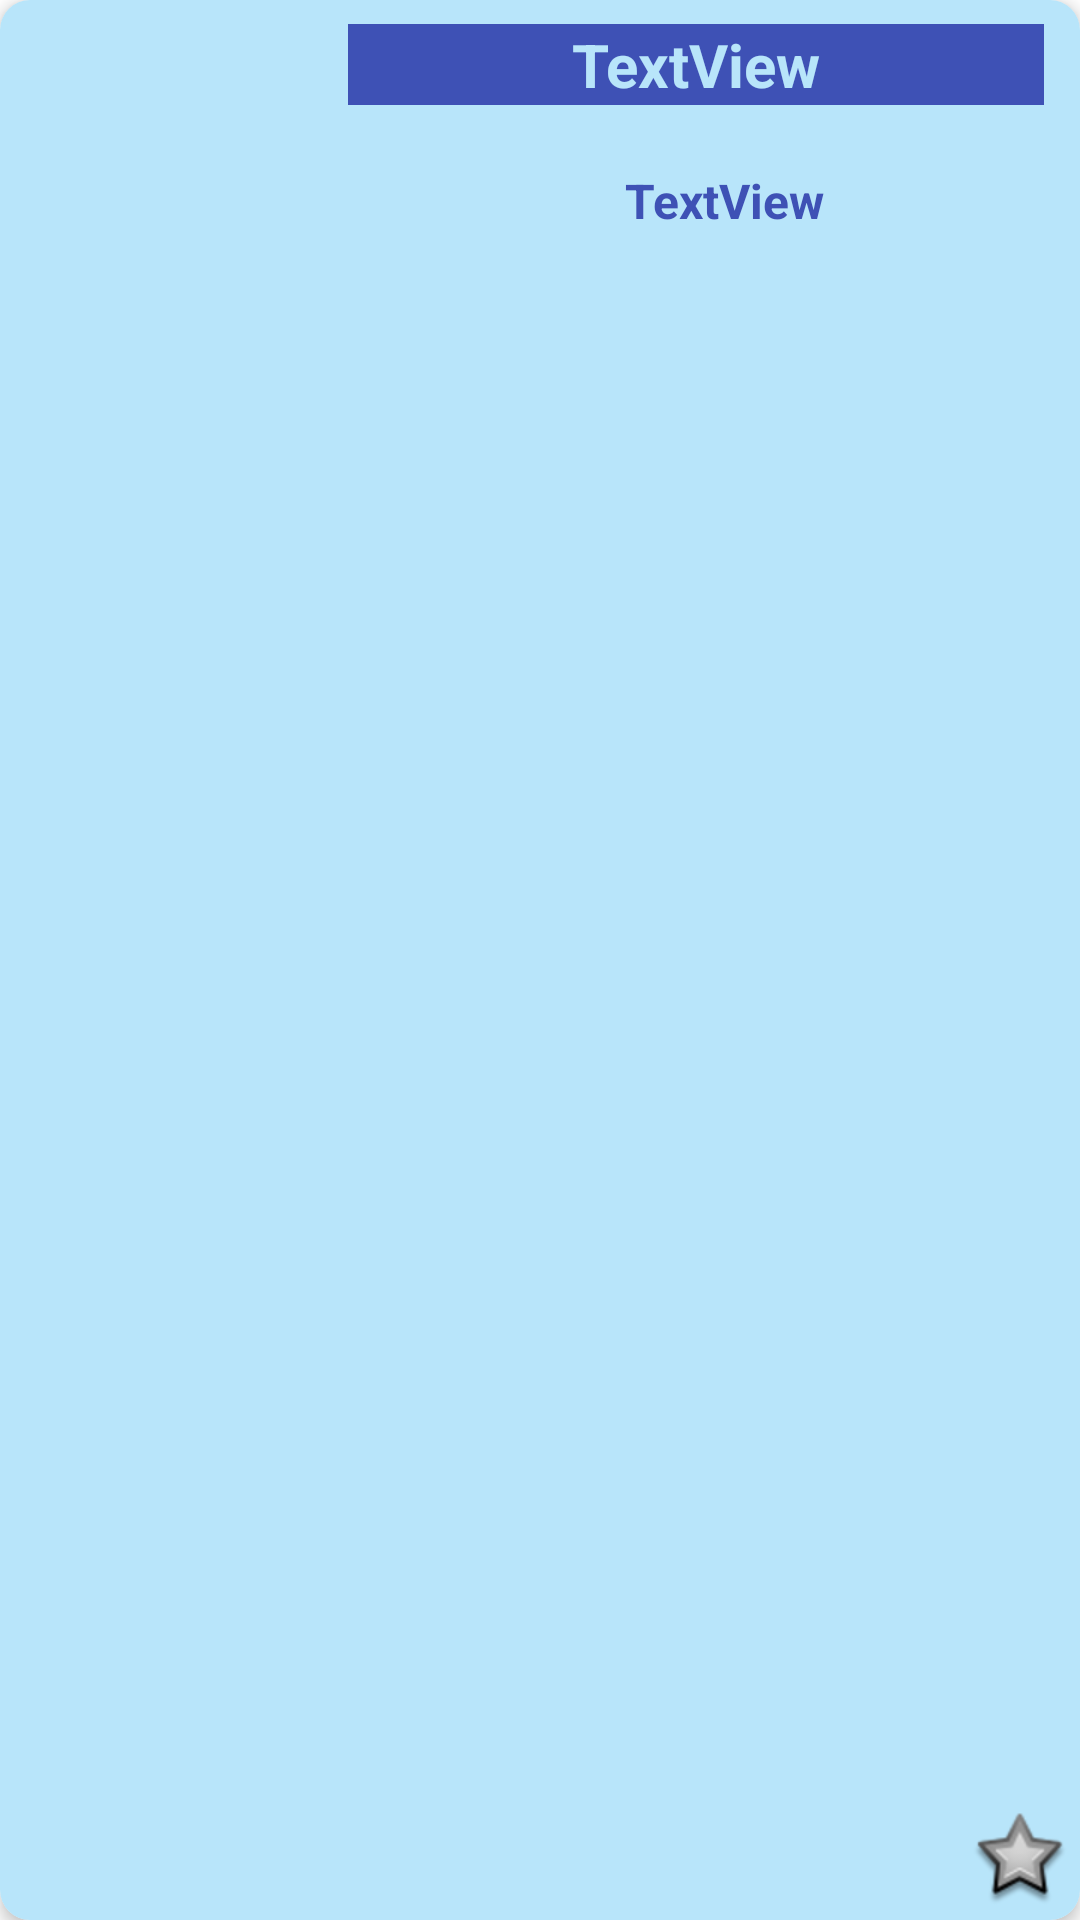

Screen size 1080 x 1920. Icon name, then its center in pixels as (x,y):
star off: (1020,1856)
